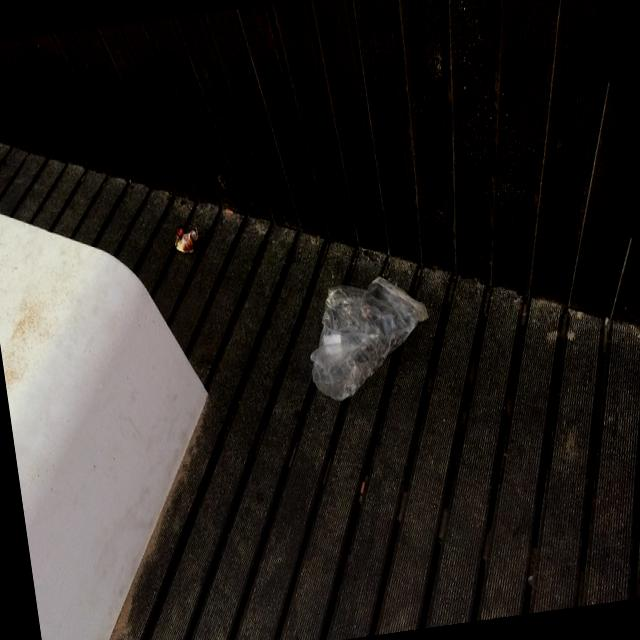Trash: (300, 264, 440, 404), (172, 224, 202, 256)
